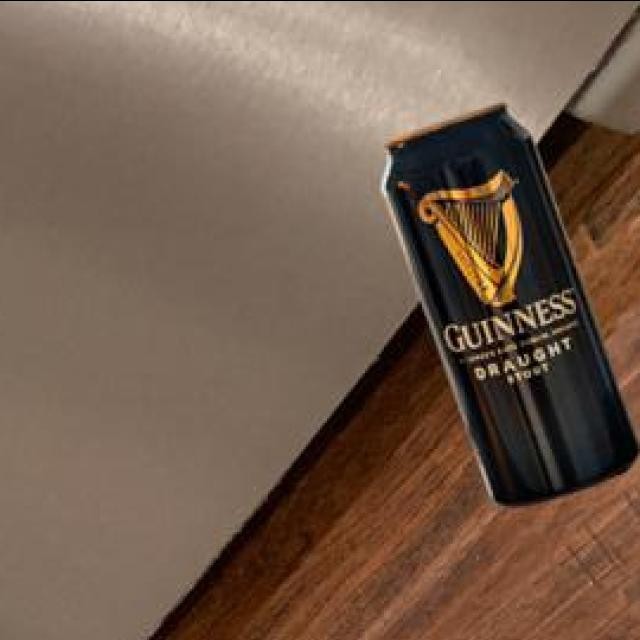logam: (378, 108, 634, 508)
